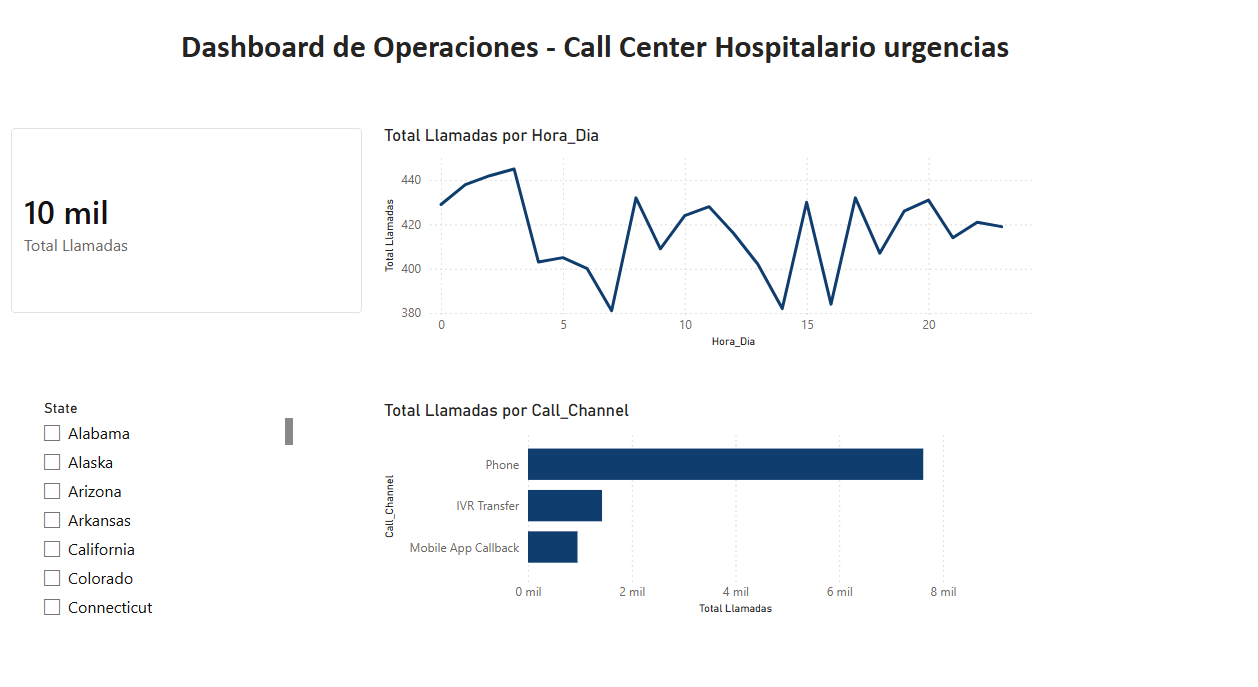

What the dashboard file says about the page in this screenshot:
{"tool":"powerbi","page":{"name":"Página 1","canvas":[1280,720],"ordinal":0},"visuals":[{"type":"lineChart","fields":{"Y":["call_center_hospital_limpio.Total Llamadas"],"Category":["call_center_hospital_limpio.Hora_Dia"]},"box":[385.2,133.3,661.4,226.6],"z":0},{"type":"clusteredBarChart","fields":{"Category":["call_center_hospital_limpio.Call_Channel"],"Y":["call_center_hospital_limpio.Total Llamadas"]},"box":[385.2,407.5,581.6,219.8],"z":1},{"type":"cardVisual","fields":{"Data":["call_center_hospital_limpio.Total Llamadas"]},"box":[0,118.7,385.2,218.8],"z":2},{"type":"slicer","fields":{"Values":["call_center_hospital_limpio.State"]},"box":[37,402.7,267.5,229.5],"z":3},{"type":"textbox","box":[181.9,30.2,957.1,56.4],"z":4}]}

Visuals, with their boxes on the page's 1280x720 design canvas (x1, y1, x2, y2). These are canvas units, not pixel positions in the 1258x687 screenshot, which may show the page scaled, cropped or inside an application window:
lineChart - call_center_hospital_limpio.Total Llamadas x call_center_hospital_limpio.Hora_Dia: 385/133/1047/360
clusteredBarChart - call_center_hospital_limpio.Call_Channel x call_center_hospital_limpio.Total Llamadas: 385/408/967/627
cardVisual - call_center_hospital_limpio.Total Llamadas: 0/119/385/338
slicer - call_center_hospital_limpio.State: 37/403/304/632
textbox: 182/30/1139/87
